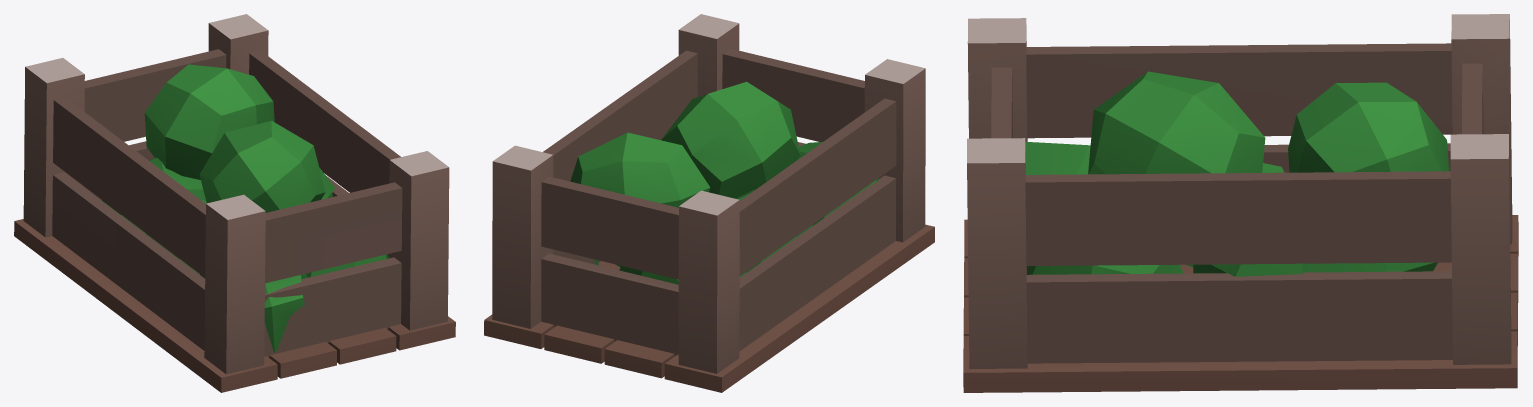
The model's file is village_melons_001.glb.
3 renders of one model, left to right at view 1: azimuth 30°, elevation 25°; view 2: azimuth 150°, elevation 25°; view 3: azimuth 270°, elevation 25°, orthographic. The views are drawn at different scales.
Parts seen in each view (by area): view 1: props_050; view 2: props_050; view 3: props_050.
Part boxes in pixels (x1,y1,x2,y2): props_050: (14,14,455,392); props_050: (484,14,934,392); props_050: (963,14,1518,392).
Size of the model in its own units: 1.2 by 0.9573 by 1.85.
1 material, 1 textured.
